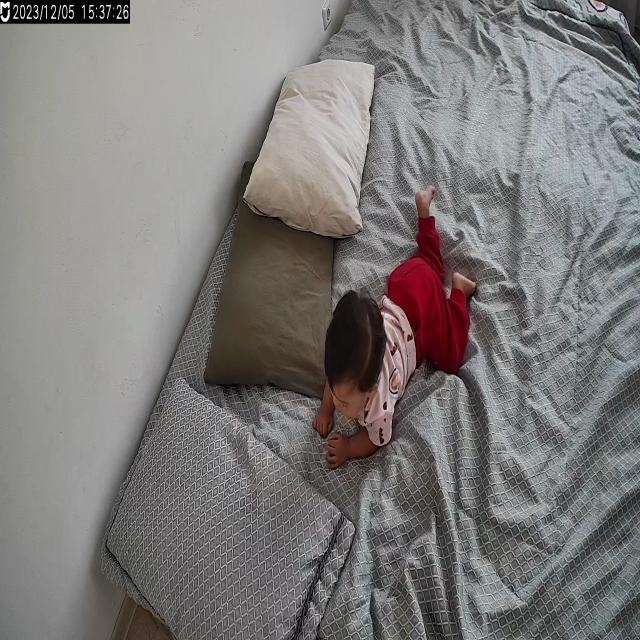baby: (310, 175, 486, 470)
